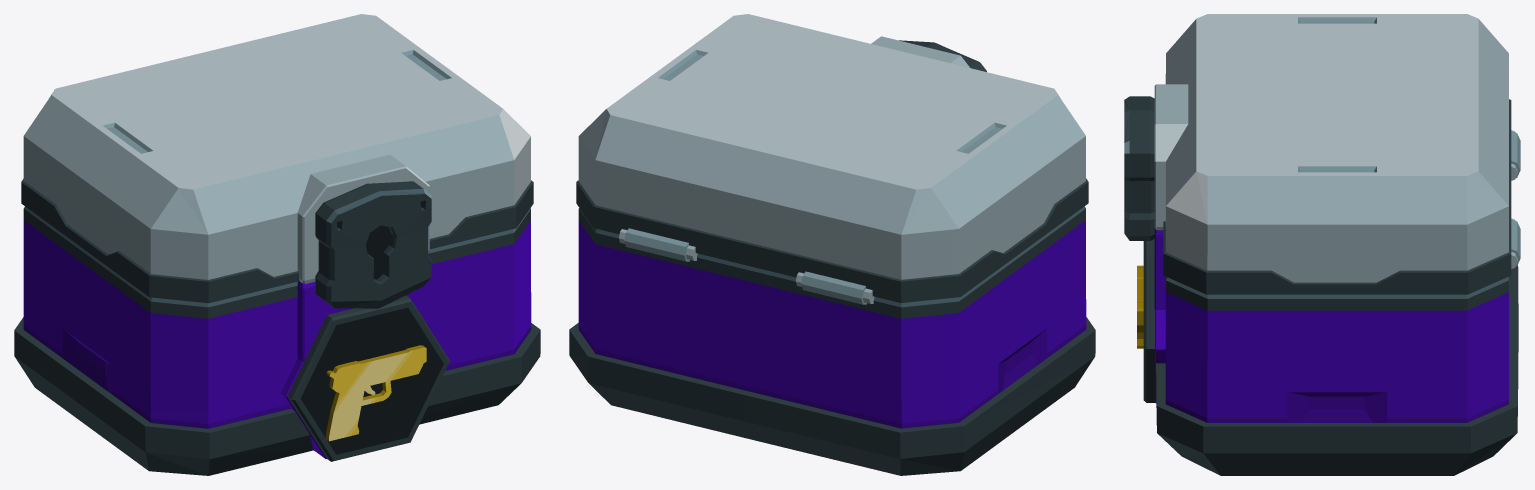
Rendered from BOX_WEAPON_G1_0101.fbx.
3 views of the same model, side by side, from view 1: azimuth 30°, elevation 25°; view 2: azimuth 150°, elevation 25°; view 3: azimuth 270°, elevation 25° (orthographic). The views are drawn at different scales.
Parts seen in each view (by area): view 1: Object003, box_weapon, Object004; view 2: Object003, box_weapon; view 3: Object003, box_weapon, Object004.
Boxes of the visible parts, left/top/right/bottom form: Object003: left=21, top=14, right=533, bottom=303; box_weapon: left=14, top=206, right=540, bottom=475; Object004: left=315, top=181, right=431, bottom=308; Object003: left=576, top=14, right=1088, bottom=304; box_weapon: left=569, top=206, right=1095, bottom=475; Object003: left=1154, top=14, right=1520, bottom=294; box_weapon: left=1137, top=228, right=1518, bottom=475; Object004: left=1124, top=96, right=1154, bottom=240.
Bounding box in the file's own units: 187 × 128 × 158.
